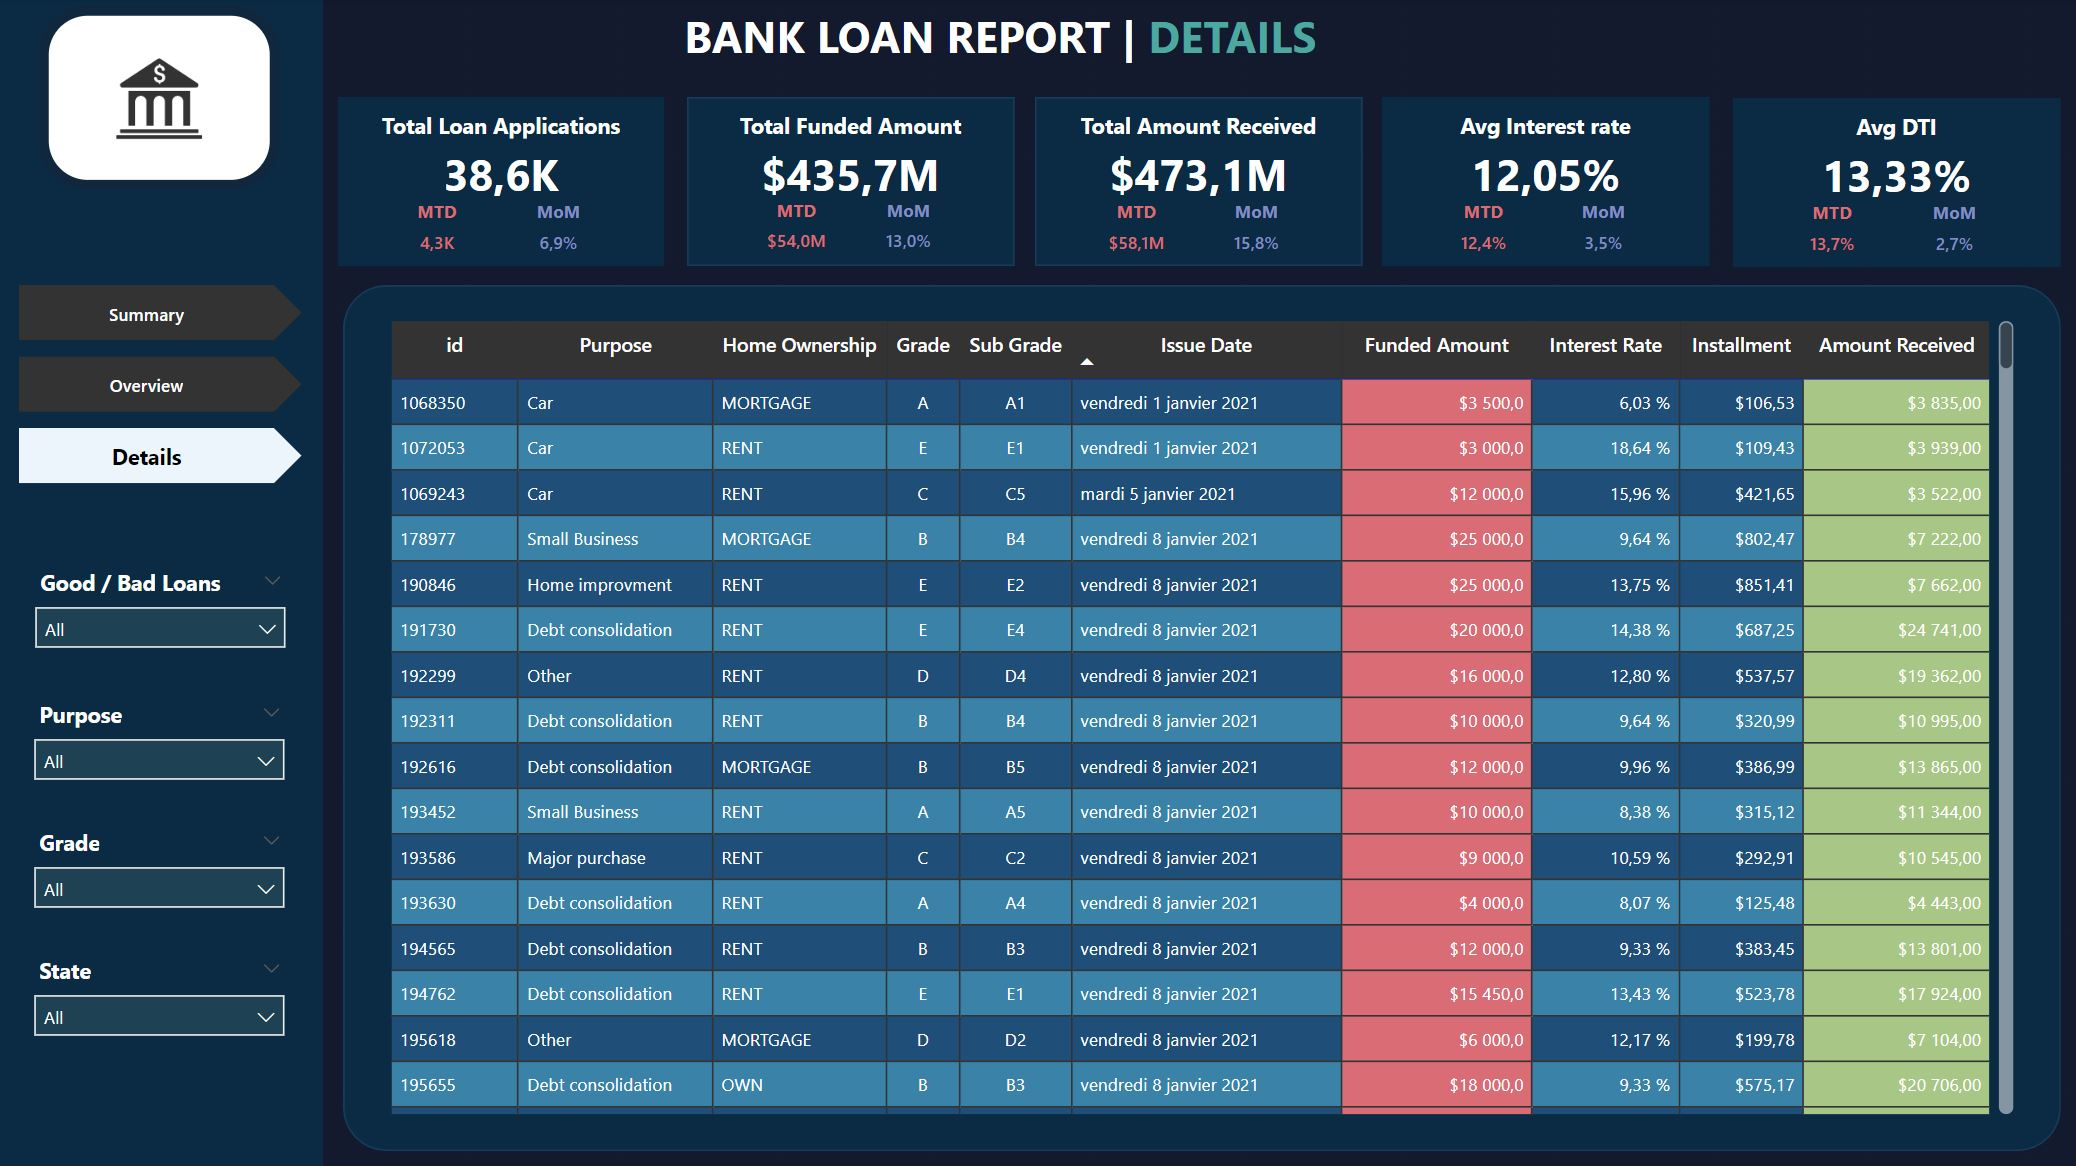

The page's visual inventory and layout, read from the dashboard file:
{"tool":"powerbi","page":{"name":"Details","canvas":[1280,720],"ordinal":2},"visuals":[{"type":"shape","title":"Total Loan Applications","box":[209.4,61.2,200.7,104.1],"z":0,"group":"g5"},{"type":"shape","title":"Total Loan Applications","box":[423.8,61.2,201.6,104.1],"z":0,"group":"g1"},{"type":"shape","title":"Total Loan Applications","box":[637.9,61.2,201.6,104.1],"z":0,"group":"g2"},{"type":"shape","title":"Total Loan Applications","box":[851.9,61.2,201.6,104.1],"z":0,"group":"g3"},{"type":"shape","title":"Total Loan Applications","box":[1067.7,61.4,201.6,104.1],"z":0,"group":"g4"},{"type":"shape","box":[212.3,176.6,1057.2,532.9],"z":0},{"type":"shape","box":[0,0,200,720.6],"z":1000},{"type":"card","title":"Total Loan Applications","fields":{"Values":["bank_loan_data.Total Loan Applications"]},"box":[209.1,69.8,200.6,68.3],"z":1000,"group":"g5"},{"type":"card","title":"Total Funded Amount","fields":{"Values":["bank_loan_data.Total_Funded_Amount"]},"box":[423.9,69.8,201.2,68.3],"z":1000,"group":"g1"},{"type":"card","title":"Total Amount Received","fields":{"Values":["bank_loan_data.Total Amount Received"]},"box":[637.9,69.8,201.2,68.3],"z":1000,"group":"g2"},{"type":"card","title":"Avg Interest rate","fields":{"Values":["bank_loan_data.Average interest Rate"]},"box":[851.9,69.8,201.2,68.3],"z":1000,"group":"g3"},{"type":"card","title":"Avg DTI","fields":{"Values":["bank_loan_data.Average DTI"]},"box":[1067.8,69.9,201.2,68.3],"z":1000,"group":"g4"},{"type":"textbox","title":"BANK LOAN REPORT | SUMMARY","box":[417.2,0,445.5,46.8],"z":2000},{"type":"card","title":"MTD","fields":{"Values":["bank_loan_data.MTD Funded Amount"]},"box":[466.1,122.5,50,39.7],"z":2000,"group":"g1"},{"type":"card","title":"MTD","fields":{"Values":["bank_loan_data.MTD Loan Applications"]},"box":[249.3,123.3,41.9,38.7],"z":2000,"group":"g5"},{"type":"card","title":"MTD","fields":{"Values":["bank_loan_data.MTD Total Amount Received"]},"box":[678.1,123.3,45,38.7],"z":2000,"group":"g2"},{"type":"card","title":"MTD","fields":{"Values":["bank_loan_data.MTD Avg Interest rate"]},"box":[892.1,123.3,45,38.7],"z":2000,"group":"g3"},{"type":"card","title":"MTD","fields":{"Values":["bank_loan_data.MTD Avg DTI"]},"box":[1107.9,123.5,42.1,38.7],"z":2000,"group":"g4"},{"type":"group","id":"g1","title":"Total Loan Applications ","box":[423.8,61.2,201.6,104.1],"z":3000},{"type":"card","title":"MoM","fields":{"Values":["bank_loan_data.MoM Total Funded Amount"]},"box":[537.6,122.5,45,39.7],"z":3000,"group":"g1"},{"type":"card","title":"MoM","fields":{"Values":["bank_loan_data.MoM Loan Applications"]},"box":[322.6,123.4,45,38.7],"z":3000,"group":"g5"},{"type":"card","title":"MoM","fields":{"Values":["bank_loan_data.MoM Total Amount Received"]},"box":[751.7,123.4,45,38.7],"z":3000,"group":"g2"},{"type":"card","title":"MoM","fields":{"Values":["bank_loan_data.MoM Avg Interest Rate"]},"box":[965.7,123.4,45,38.7],"z":3000,"group":"g3"},{"type":"card","title":"MoM","fields":{"Values":["bank_loan_data.MoM Avg DTI"]},"box":[1181.5,123.6,45,38.7],"z":3000,"group":"g4"},{"type":"group","id":"g2","title":"Total Loan Applications ","box":[637.9,61.2,201.6,104.1],"z":4000},{"type":"group","id":"g3","title":"Total Loan Applications ","box":[851.9,61.2,201.6,104.1],"z":5000},{"type":"group","id":"g4","title":"Total Loan Applications ","box":[1067.7,61.4,201.6,104.1],"z":6000},{"type":"group","id":"g5","title":"Total Loan Applications ","box":[209.1,61.2,200.9,104.1],"z":7000},{"type":"slicer","fields":{"Values":["bank_loan_data.address_state"]},"box":[12.6,584.6,174.1,72.8],"z":8000},{"type":"slicer","fields":{"Values":["bank_loan_data.grade"]},"box":[12.6,505.8,174.1,72.8],"z":9000},{"type":"slicer","fields":{"Values":["bank_loan_data.purpose"]},"box":[12.6,427,174.1,72.8],"z":10000},{"type":"slicer","fields":{"Values":["bank_loan_data.Good Loan v Bad Loan"]},"box":[12.9,345.8,174.2,73.2],"z":11000},{"type":"tableEx","fields":{"Values":["bank_loan_data.id","bank_loan_data.Purpose - Caps","bank_loan_data.home_ownership","bank_loan_data.grade","bank_loan_data.sub_grade","bank_loan_data.issue_date","bank_loan_data.Total Funded Amount","Sum(bank_loan_data.int_rate)","Sum(bank_loan_data.installment)","bank_loan_data.Total Amount Received"]},"box":[236.3,193.8,1009.2,498.5],"z":12000},{"type":"image","box":[25.2,4.9,148.3,113.2],"z":13000},{"type":"pageNavigator","box":[12.9,176.6,174.2,122.5],"z":13001}]}

Visuals, with their boxes in screenshot pixels (x1, y1, x2, y2), scaled from the page's 1280x720 canvas onto the 2076x1166 screenshot:
"Total Loan Applications" shape: (340, 99, 665, 268)
"Total Loan Applications" shape: (687, 99, 1014, 268)
"Total Loan Applications" shape: (1035, 99, 1362, 268)
"Total Loan Applications" shape: (1382, 99, 1709, 268)
"Total Loan Applications" shape: (1732, 99, 2059, 268)
shape: (344, 286, 2059, 1149)
shape: (0, 0, 324, 1165)
"Total Loan Applications" card: (339, 113, 664, 224)
"Total Funded Amount" card: (688, 113, 1014, 224)
"Total Amount Received" card: (1035, 113, 1361, 224)
"Avg Interest rate" card: (1382, 113, 1708, 224)
"Avg DTI" card: (1732, 113, 2058, 224)
"BANK LOAN REPORT | SUMMARY" textbox: (677, 0, 1399, 76)
"MTD" card: (756, 198, 837, 263)
"MTD" card: (404, 200, 472, 262)
"MTD" card: (1100, 200, 1173, 262)
"MTD" card: (1447, 200, 1520, 262)
"MTD" card: (1797, 200, 1865, 263)
"Total Loan Applications " group: (687, 99, 1014, 268)
"MoM" card: (872, 198, 945, 263)
"MoM" card: (523, 200, 596, 263)
"MoM" card: (1219, 200, 1292, 263)
"MoM" card: (1566, 200, 1639, 263)
"MoM" card: (1916, 200, 1989, 263)
"Total Loan Applications " group: (1035, 99, 1362, 268)
"Total Loan Applications " group: (1382, 99, 1709, 268)
"Total Loan Applications " group: (1732, 99, 2059, 268)
"Total Loan Applications " group: (339, 99, 665, 268)
slicer - bank_loan_data.address_state: (20, 947, 303, 1065)
slicer - bank_loan_data.grade: (20, 819, 303, 937)
slicer - bank_loan_data.purpose: (20, 692, 303, 809)
slicer - bank_loan_data.Good Loan v Bad Loan: (21, 560, 303, 679)
tableEx - bank_loan_data.id x bank_loan_data.Purpose - Caps: (383, 314, 2020, 1121)
image: (41, 8, 281, 191)
pageNavigator: (21, 286, 303, 484)
